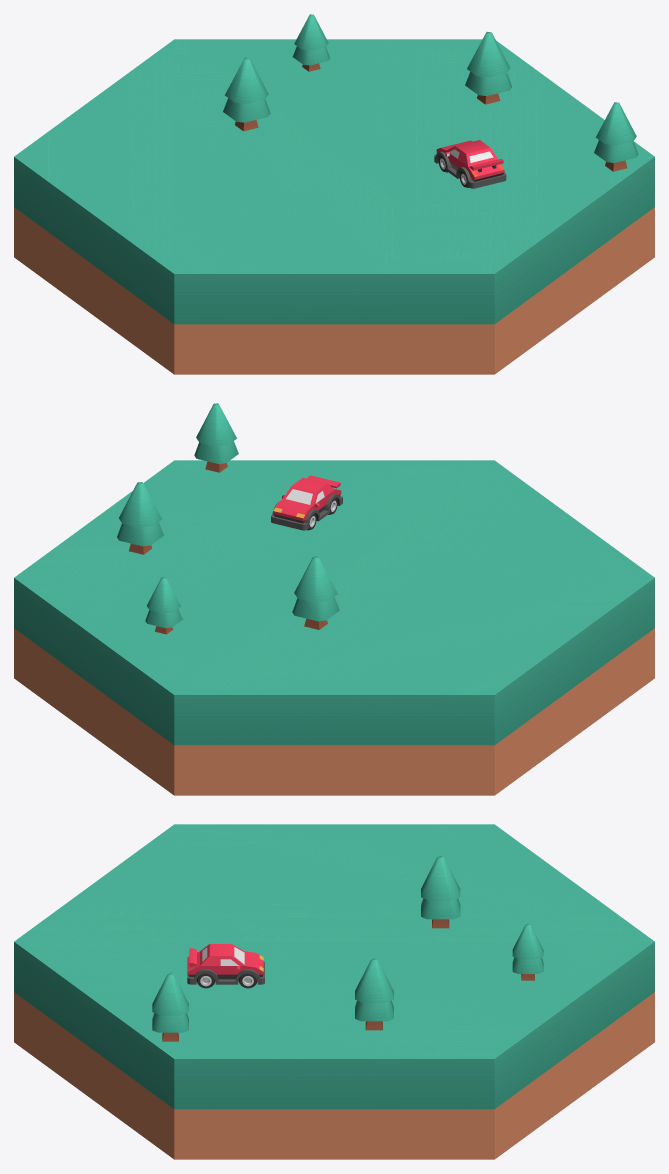
File: carJamScene.glb
3 renders of one model, top to bottom at view 1: azimuth 30°, elevation 25°; view 2: azimuth 150°, elevation 25°; view 3: azimuth 270°, elevation 25°, orthographic.
Parts seen in each view (by area): view 1: grass, unit-tree, unit-tree.001, body, unit-tree.002, unit-tree.003; view 2: grass, body, unit-tree, unit-tree.001, unit-tree.002, unit-tree.003; view 3: grass, body, unit-tree, unit-tree.001, unit-tree.002, unit-tree.003.
Part boxes in pixels (box(x1,y1,x2,y2)): grass: box(14, 39, 654, 374); unit-tree: box(223, 57, 270, 131); unit-tree.001: box(465, 32, 511, 104); body: box(434, 140, 506, 188); unit-tree.002: box(594, 102, 638, 171); unit-tree.003: box(292, 14, 329, 71); grass: box(14, 460, 654, 795); body: box(271, 477, 342, 530); unit-tree: box(292, 556, 339, 629); unit-tree.001: box(117, 482, 163, 554); unit-tree.002: box(194, 403, 238, 472); unit-tree.003: box(145, 577, 182, 634); grass: box(14, 824, 654, 1159); body: box(187, 944, 264, 984); unit-tree: box(421, 856, 460, 928); unit-tree.001: box(355, 958, 393, 1030); unit-tree.002: box(152, 973, 188, 1041); unit-tree.003: box(512, 924, 543, 980).
Bounding box in the file's own units: 78.52 × 26.21 × 90.66.
Materials: 13 (5 with a texture image).
